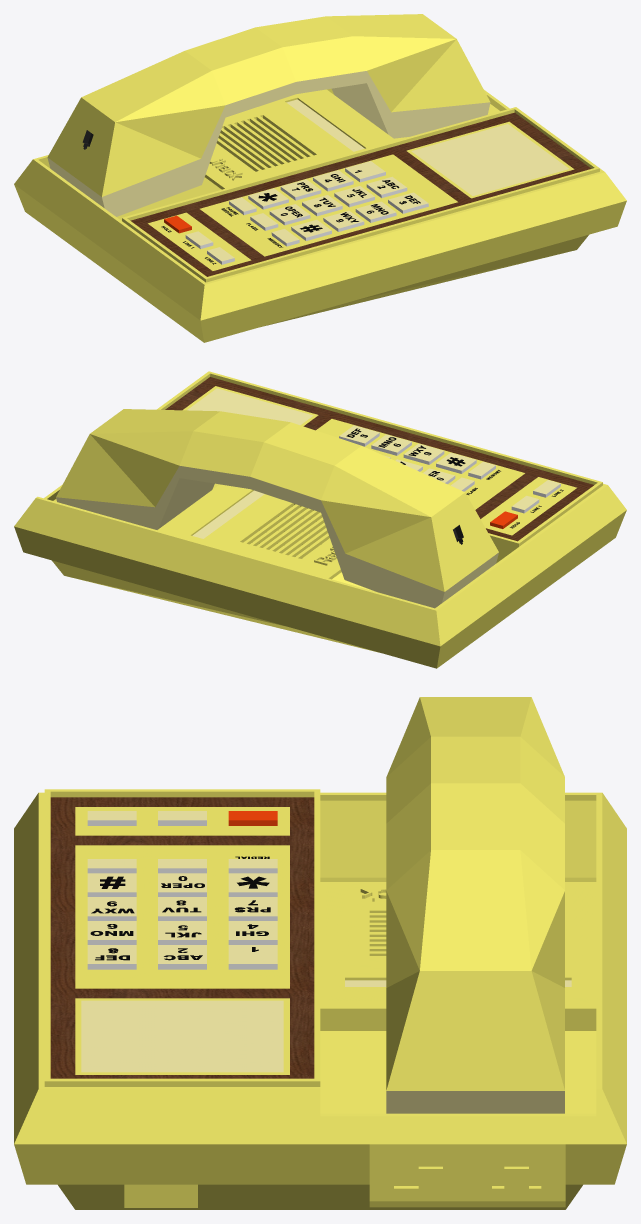
The model's file is phone.fbx.
3 renders of one model, top to bottom at view 1: azimuth 30°, elevation 25°; view 2: azimuth 150°, elevation 25°; view 3: azimuth 270°, elevation 25°, orthographic. The views are drawn at different scales.
Visible parts, largest first — view 1: Group2, Group1; view 2: Group2, Group1; view 3: Group2, Group1.
Part boxes in pixels (<box>): Group2: <box>14,88,626,342</box>; Group1: <box>47,14,490,216</box>; Group2: <box>14,371,626,668</box>; Group1: <box>56,409,498,608</box>; Group2: <box>14,789,626,1209</box>; Group1: <box>386,697,564,1113</box>.
Size of the model in its own units: 8.31 by 3.12 by 6.25.
